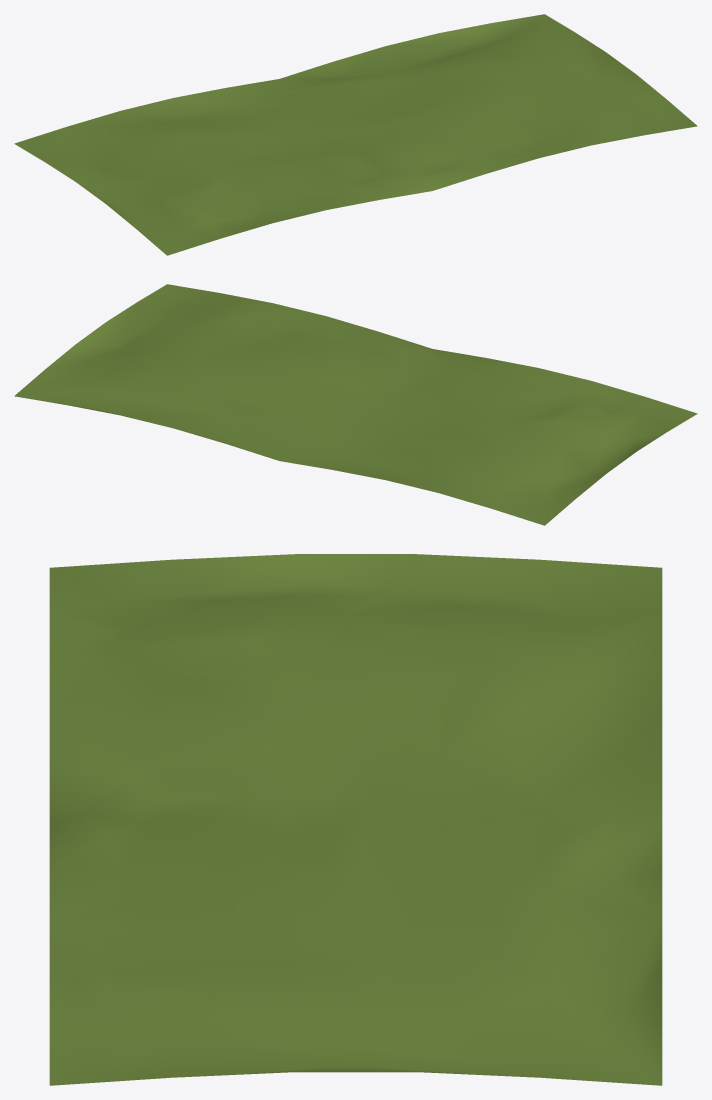
File: rpgpp_ag_terrain_grass_01a_20x10m.fbx
3 views of the same model, one above another, from view 1: azimuth 30°, elevation 25°; view 2: azimuth 150°, elevation 25°; view 3: azimuth 270°, elevation 25° (orthographic). The views are drawn at different scales.
Visible parts, largest first — view 1: rpgpp_ag_terrain_grass_01a_20x10m; view 2: rpgpp_ag_terrain_grass_01a_20x10m; view 3: rpgpp_ag_terrain_grass_01a_20x10m.
Part boxes in pixels (<box>): rpgpp_ag_terrain_grass_01a_20x10m: <box>14,14,697,255</box>; rpgpp_ag_terrain_grass_01a_20x10m: <box>14,284,697,525</box>; rpgpp_ag_terrain_grass_01a_20x10m: <box>49,554,662,1085</box>.
Size of the model in its own units: 20 by 0.4372 by 10.
